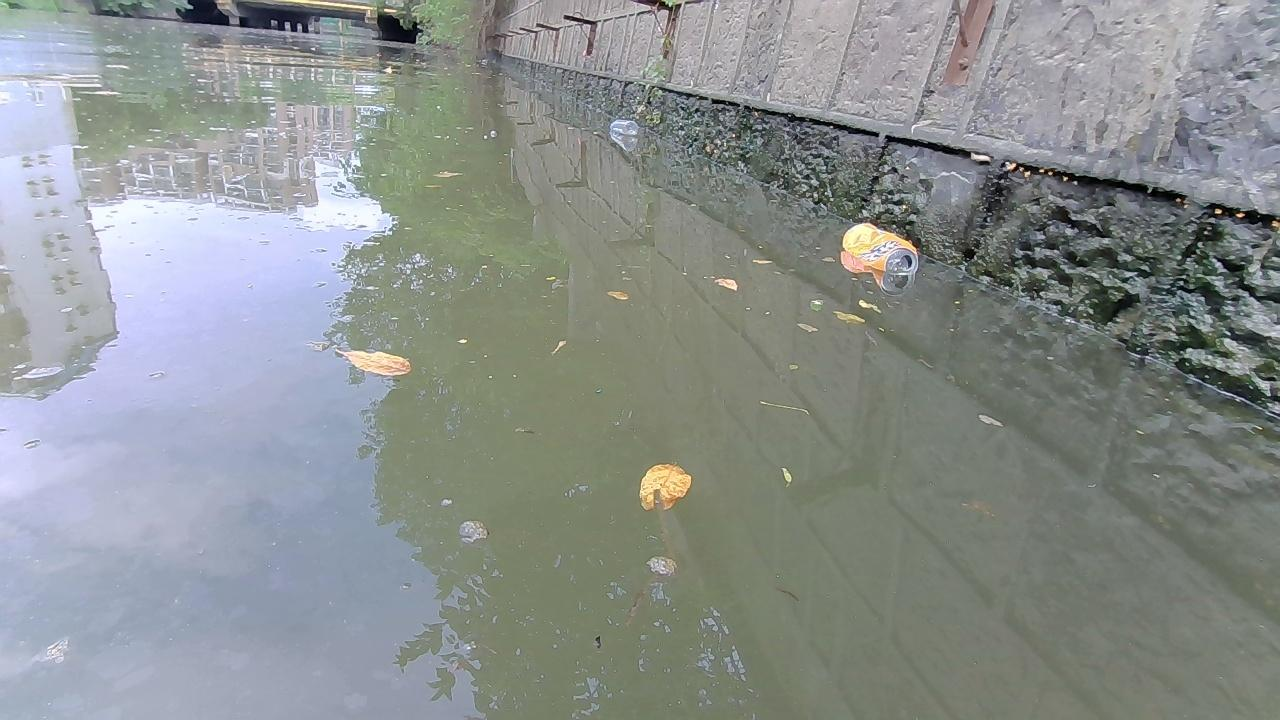bottle: (840, 221, 919, 275), (609, 118, 638, 134)
